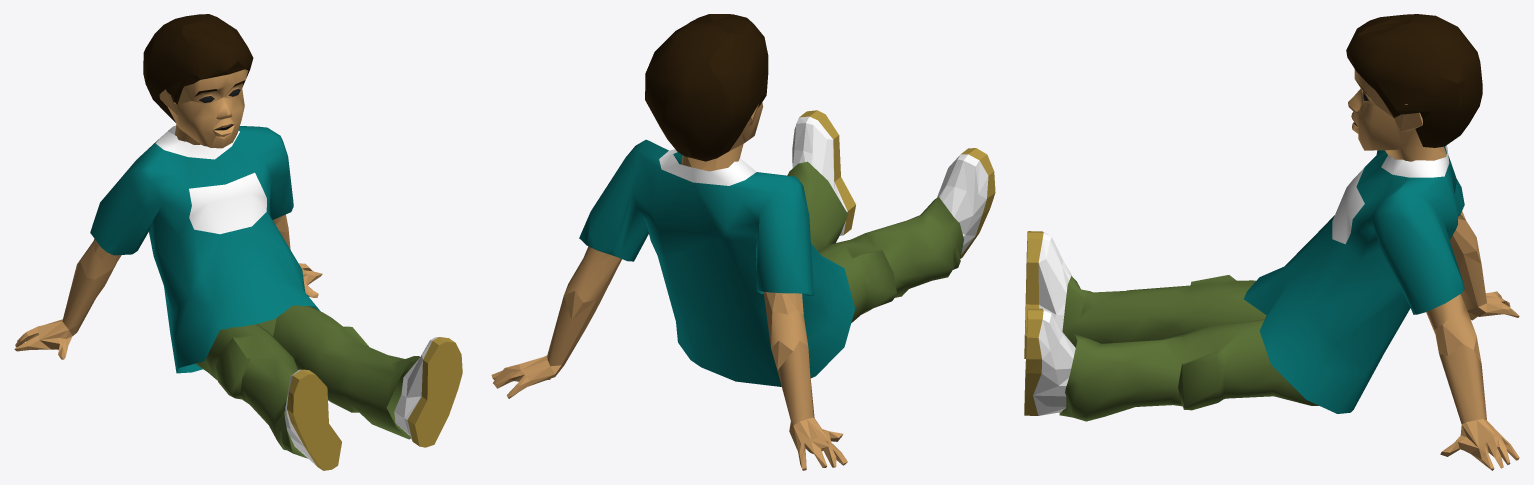
File: Aiden.fbx
3 renders of one model, left to right at view 1: azimuth 30°, elevation 25°; view 2: azimuth 150°, elevation 25°; view 3: azimuth 270°, elevation 25°, orthographic. The views are drawn at different scales.
Visible parts, largest first — view 1: Model; view 2: Model; view 3: Model.
Part boxes in pixels (x1,y1,x2,y2): Model: [14, 14, 462, 470]; Model: [491, 14, 995, 470]; Model: [1024, 14, 1519, 470].
Bounding box in the file's own units: 22.84 × 23.01 × 27.78.
